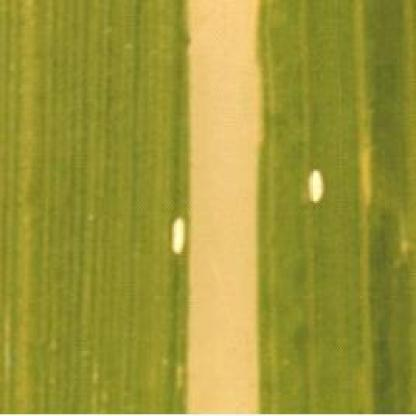whorl-maggot: (302, 162, 332, 210), (167, 206, 188, 260)
